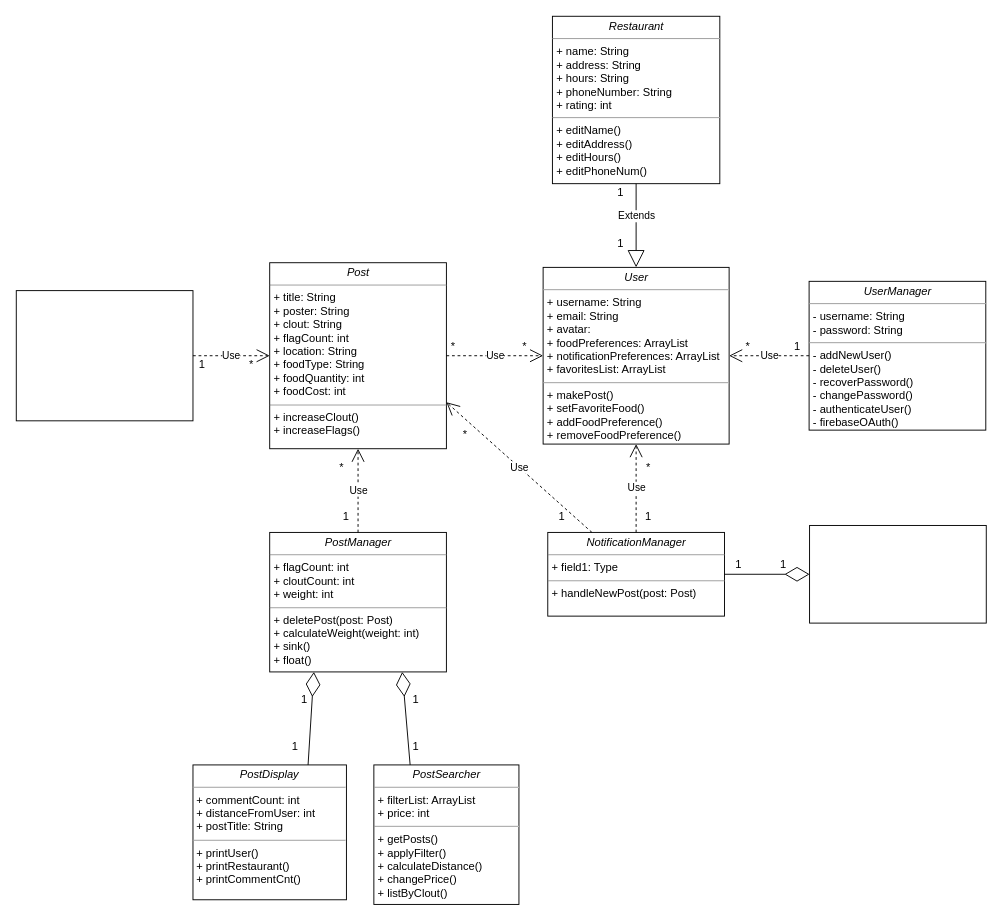
Some shapes in this 1003 by 921 pixel diagram are drawn without their labels. Each missing label, with the box of its shape:
DisplayManager +renderProfile() +renderBrowse() +renderSettings(): (15, 290, 193, 421)
MapManager + field1: Type + field2: Type + sendNavigation(address: String): (809, 525, 986, 623)
